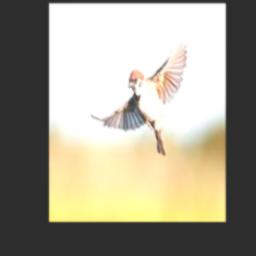Sparrow: (90, 32, 188, 155)
